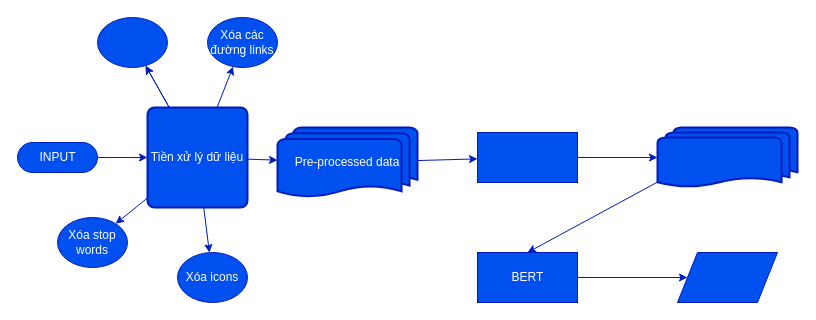
Image size: 816x320. Some labels were removed from this diagram. The shapes that lost their labels are listed below. From the top down, each one's centre as x and y in pixels, then its label:
At point (132, 42): "Xóa các tag tên".
At point (527, 157): "BART".
At point (727, 157): "Summarized data".
At point (727, 277): "OUTPUT/ MODEL".
